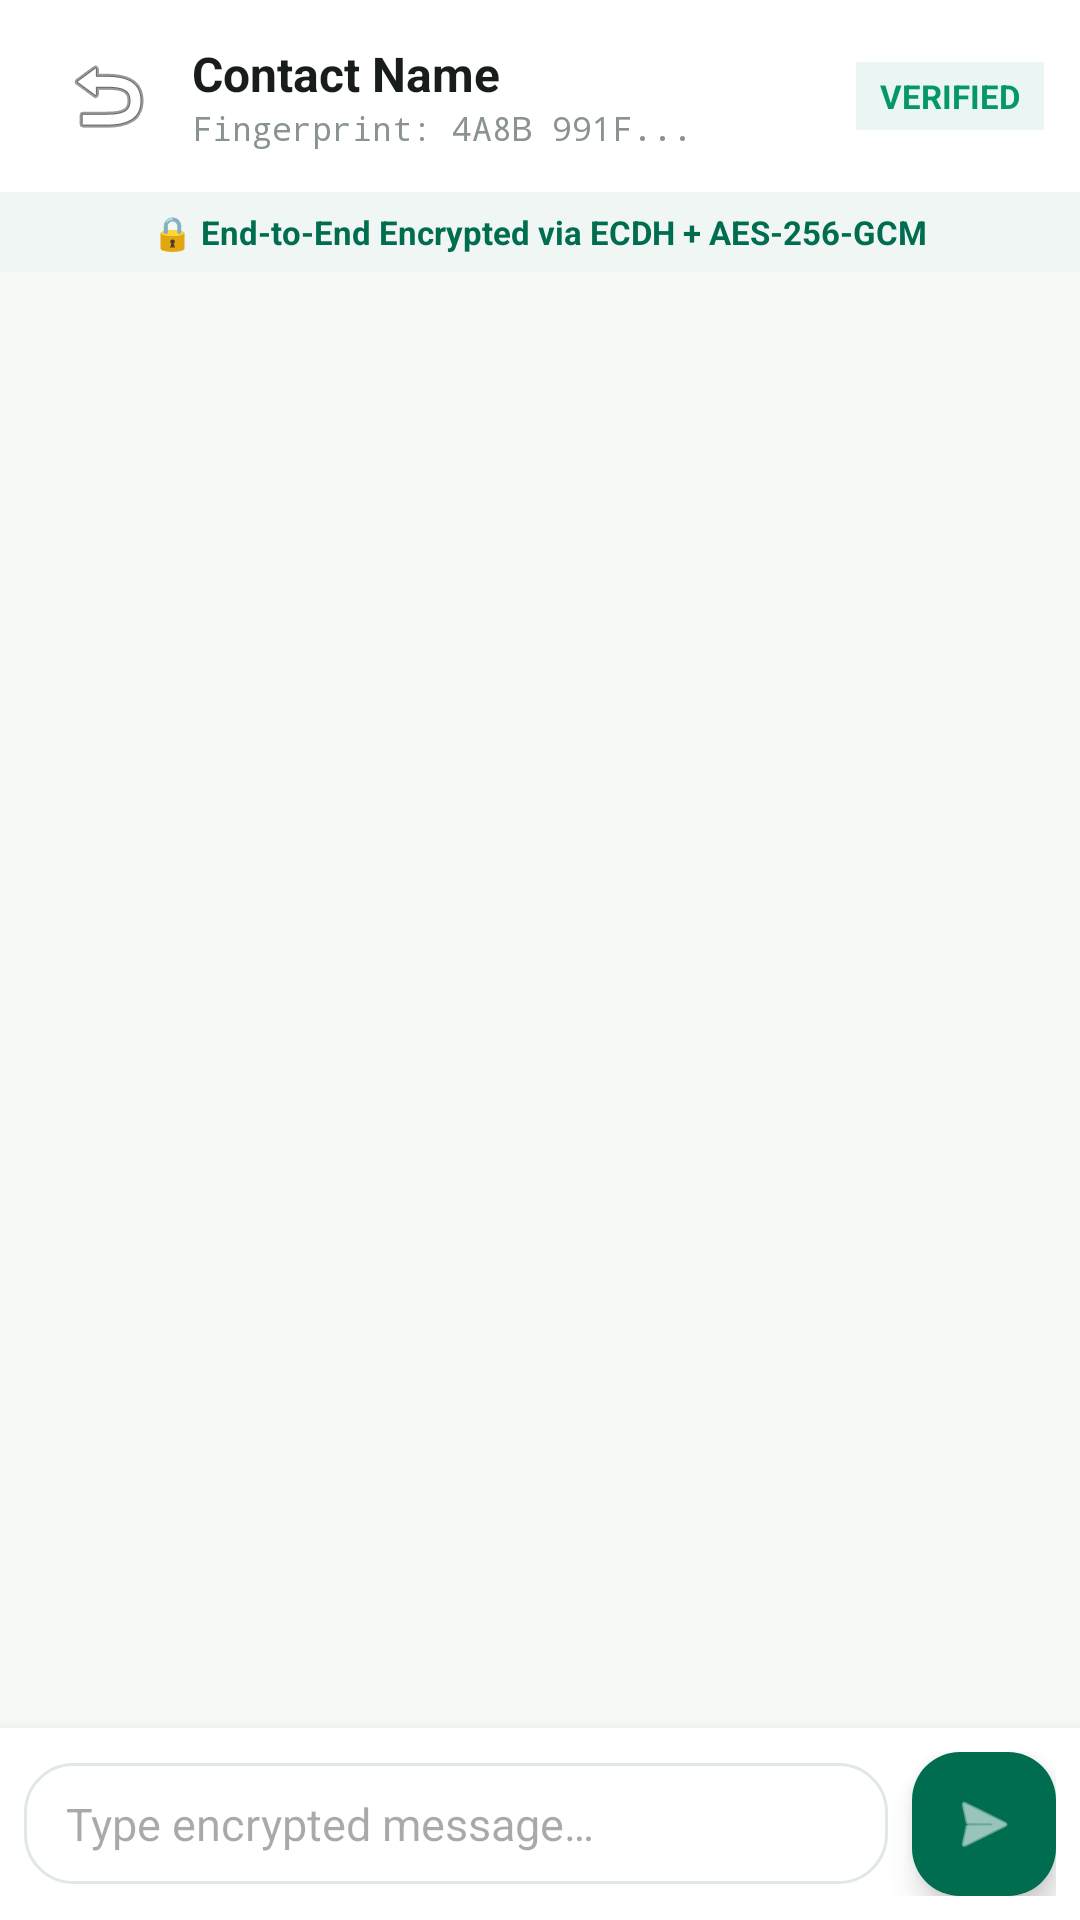

Icons on this 1080px x 1920px Android screen, each with its box as box=[x1, y1, x2, y2]:
Back: box=[75, 65, 144, 128]
Send: box=[912, 1752, 1056, 1896]
